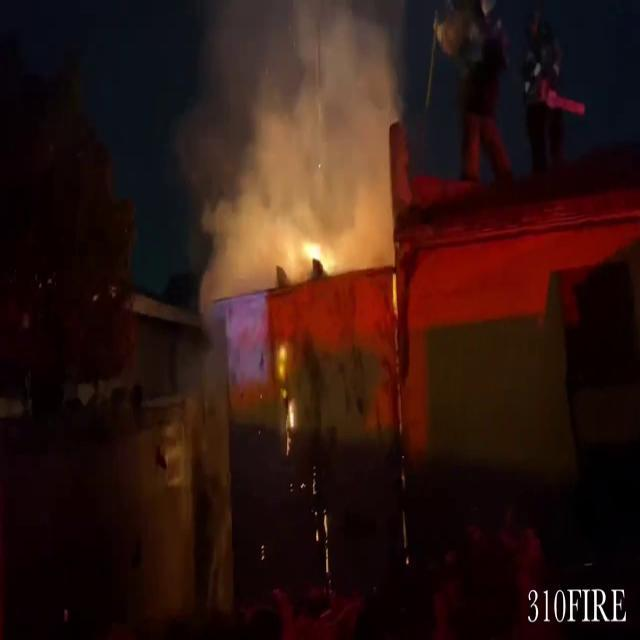Fire: (275, 345, 298, 435)
Smoke: (174, 1, 415, 275)
